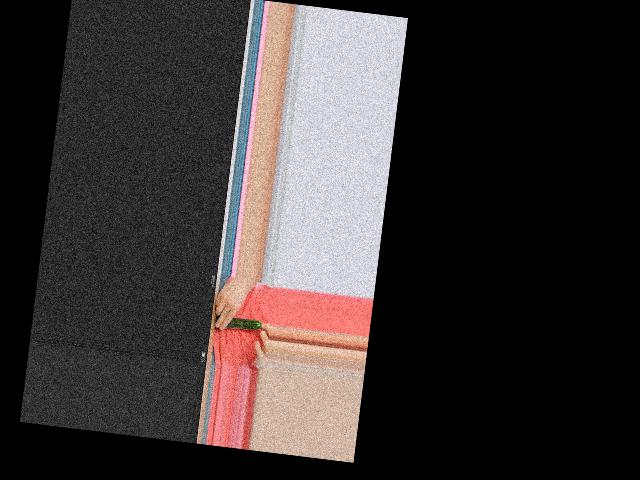cucumber: (225, 316, 262, 331)
